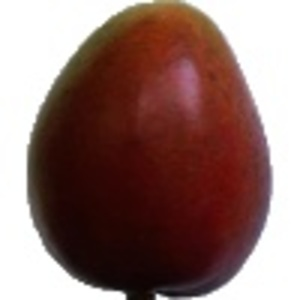manga: (27, 1, 274, 300)
